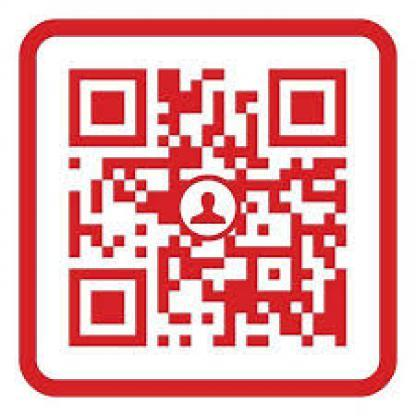qr_code: (67, 68, 346, 348)
